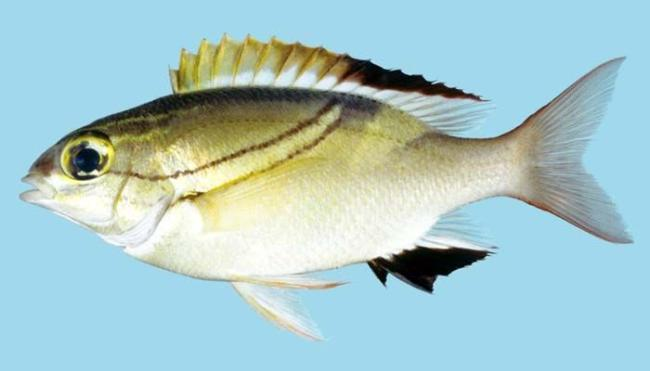fish: (18, 31, 637, 341)
